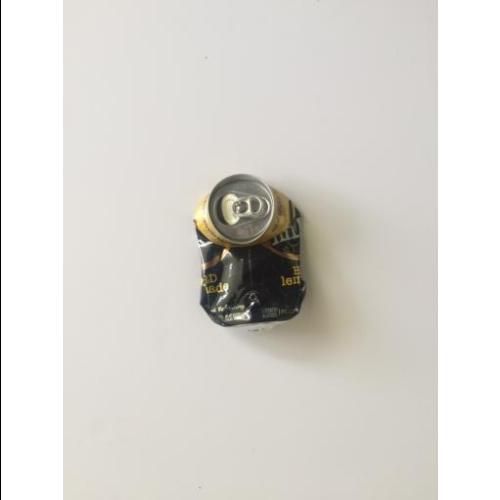metal: (193, 175, 306, 324)
